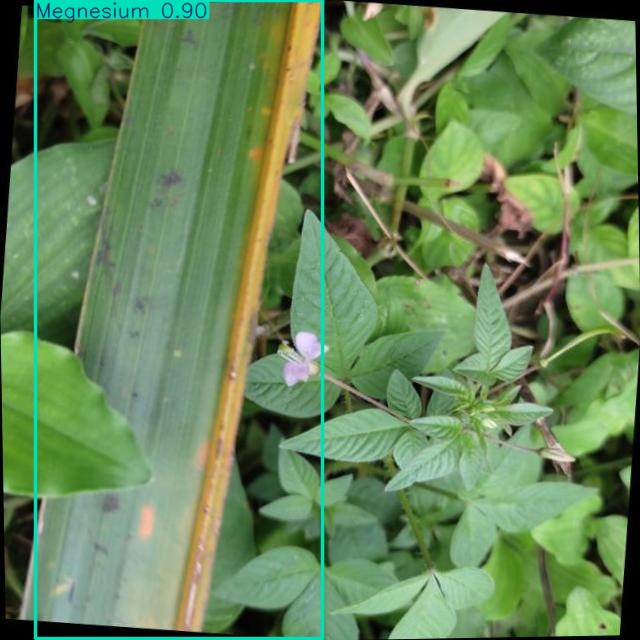Megnesium: (36, 0, 323, 639)
